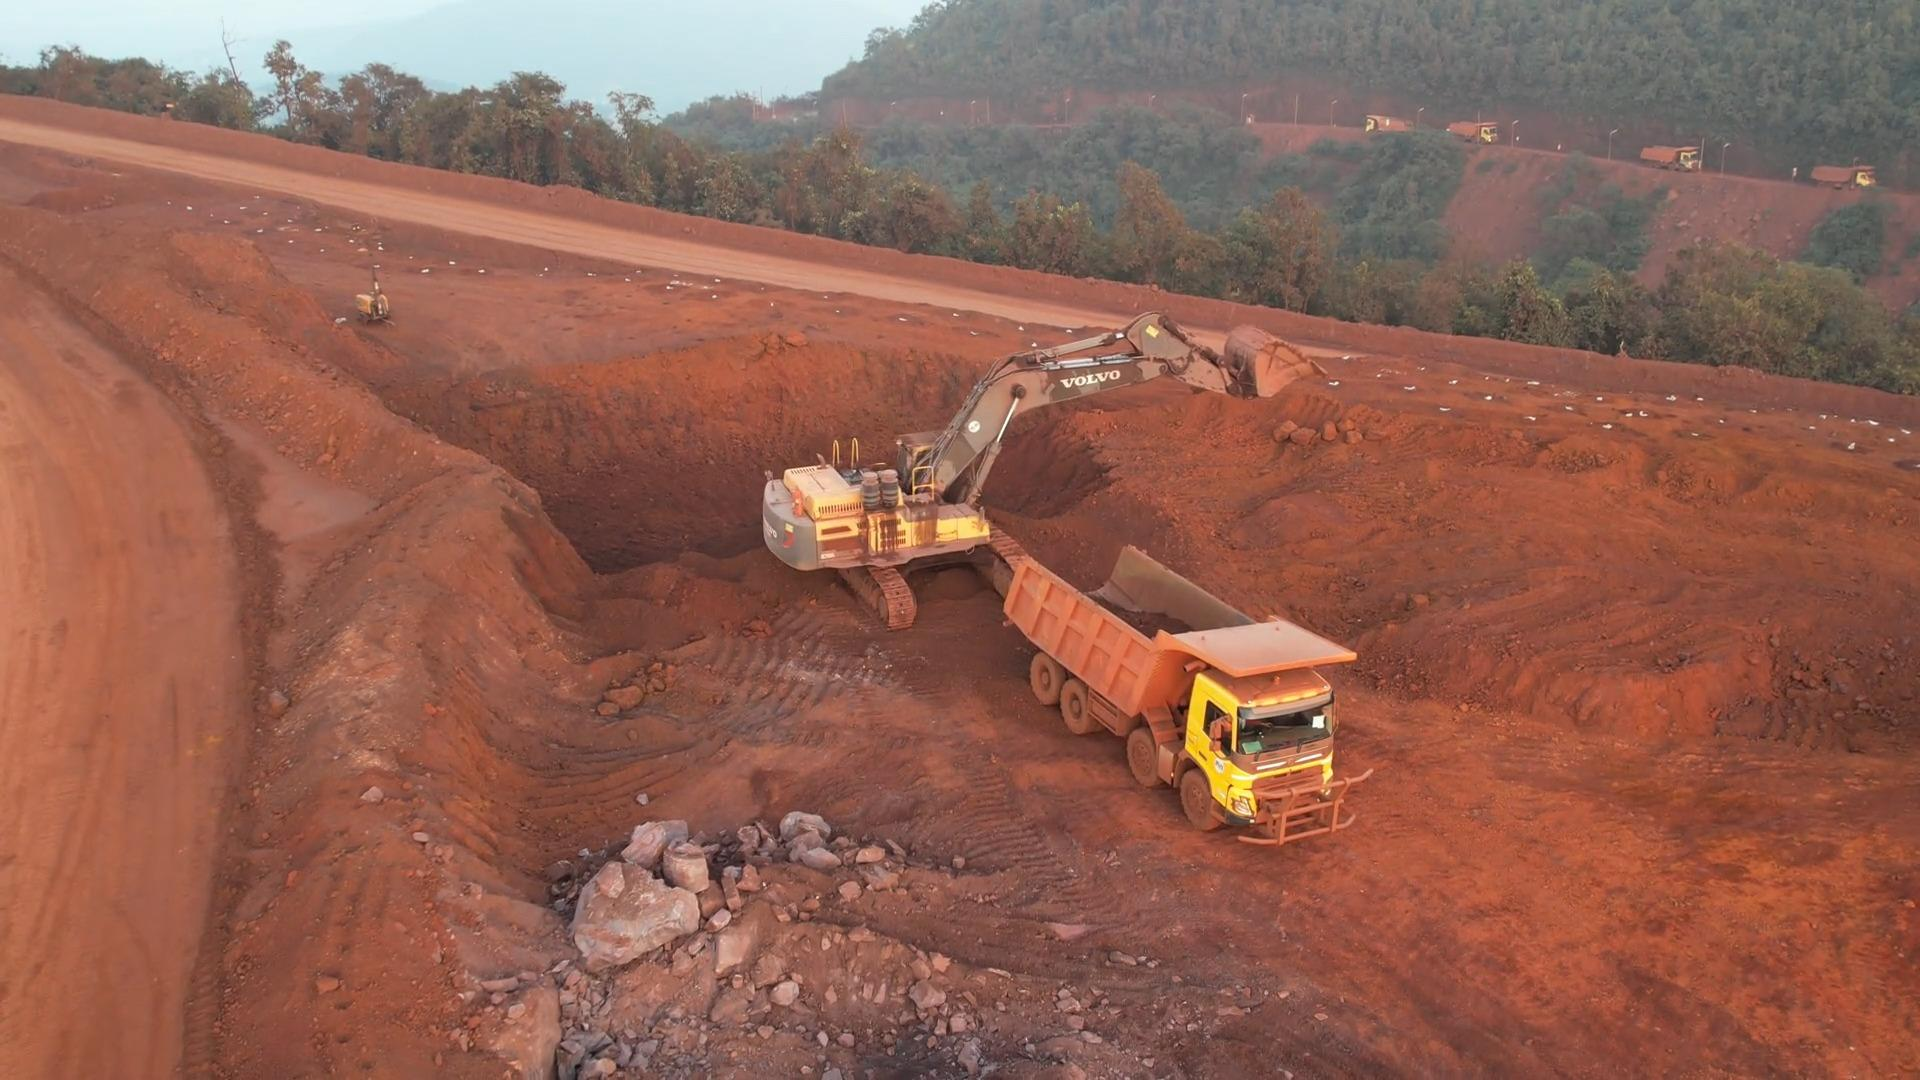excavator: (773, 314, 1302, 568)
